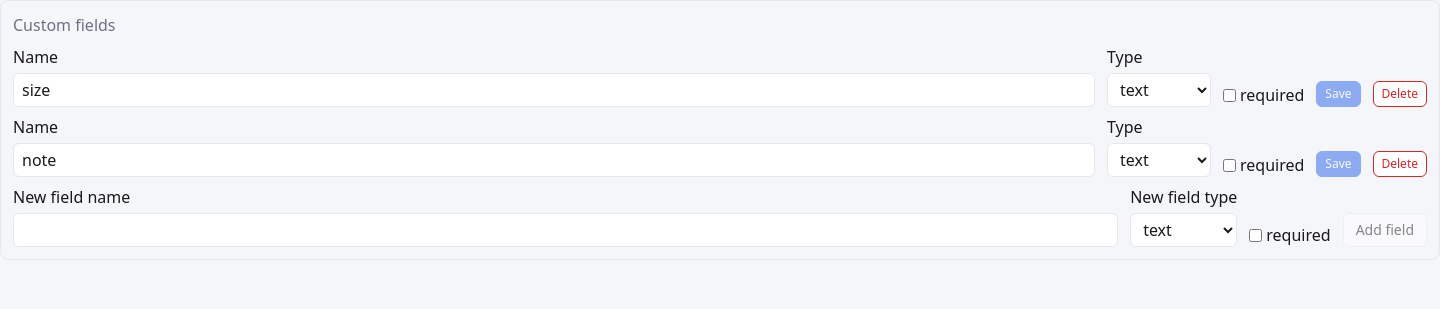
Test case: type fields editor › reports a failed value-count read and does not delete
Click the 1st button "Delete" at (1400, 94), box [1372, 81, 1427, 107]
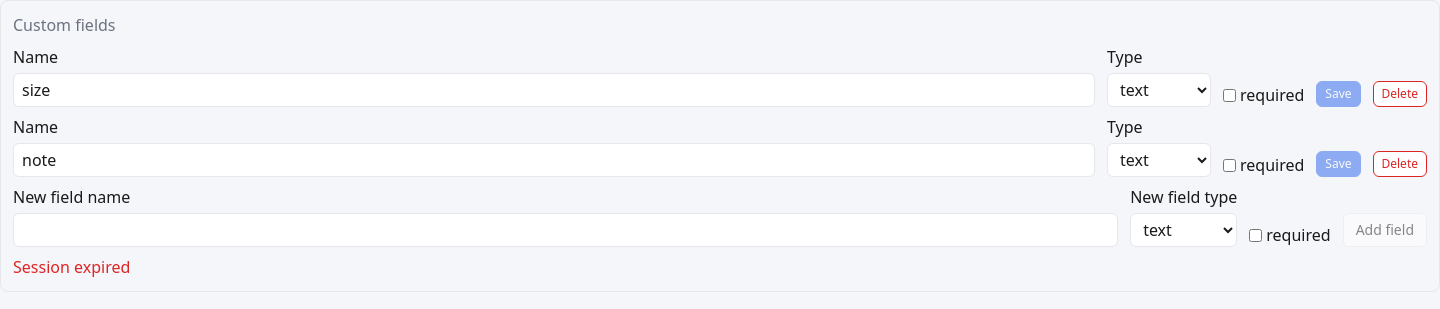
Expected: the message reads "Session expired", [13, 256, 130, 278]
